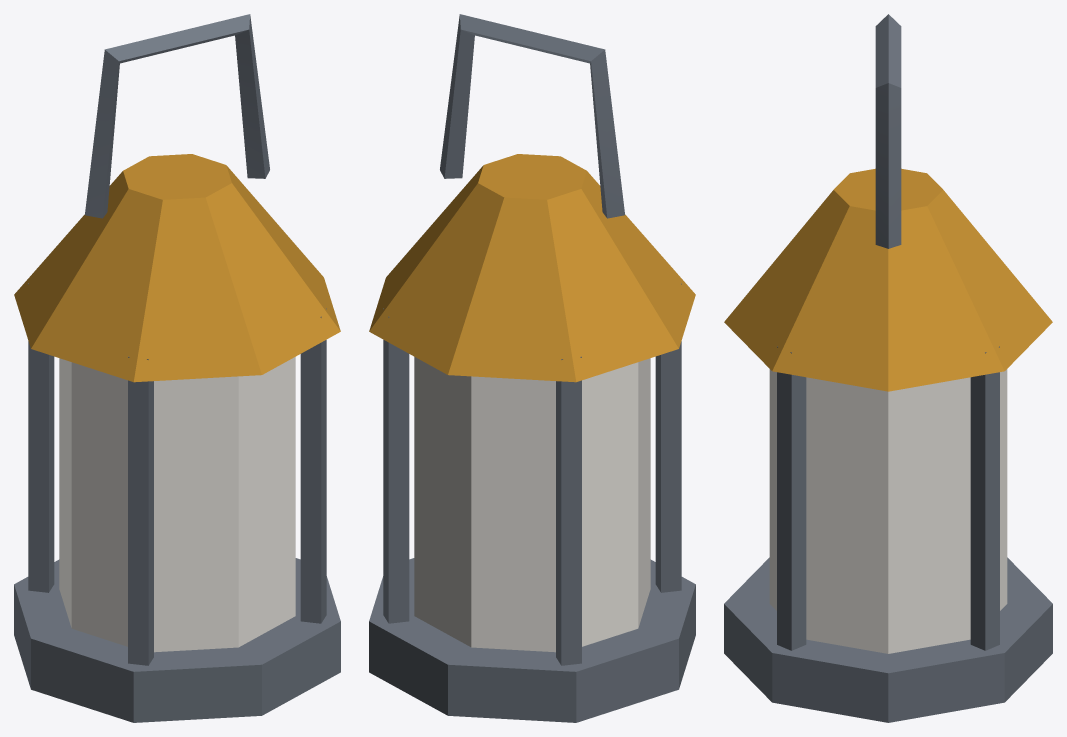
File: Junk_Lantern.fbx
3 renders of one model, left to right at view 1: azimuth 30°, elevation 25°; view 2: azimuth 150°, elevation 25°; view 3: azimuth 270°, elevation 25°, orthographic. The views are drawn at different scales.
Parts seen in each view (by area): view 1: Item; view 2: Item; view 3: Item.
Boxes of the visible parts, x1,y1,x2,y2 form: Item: [14, 14, 340, 722]; Item: [369, 14, 695, 722]; Item: [724, 14, 1052, 722].
Size of the model in its own units: 0.18 by 0.3652 by 0.18.
